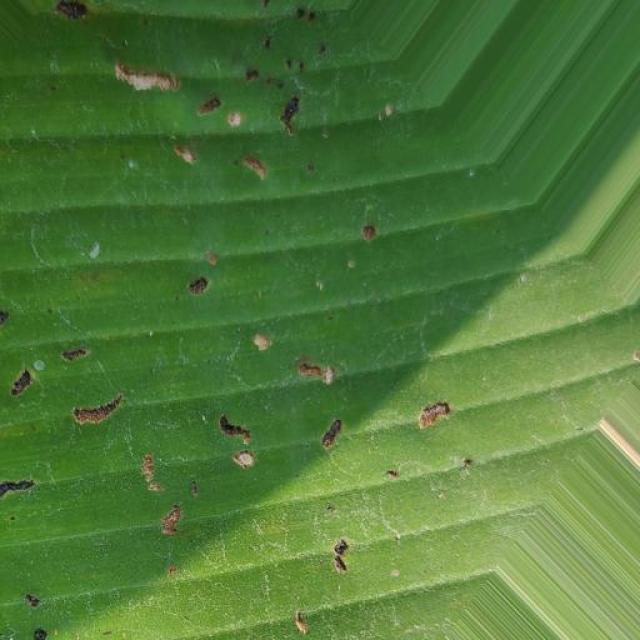Black_rot: (0, 3, 619, 640)
